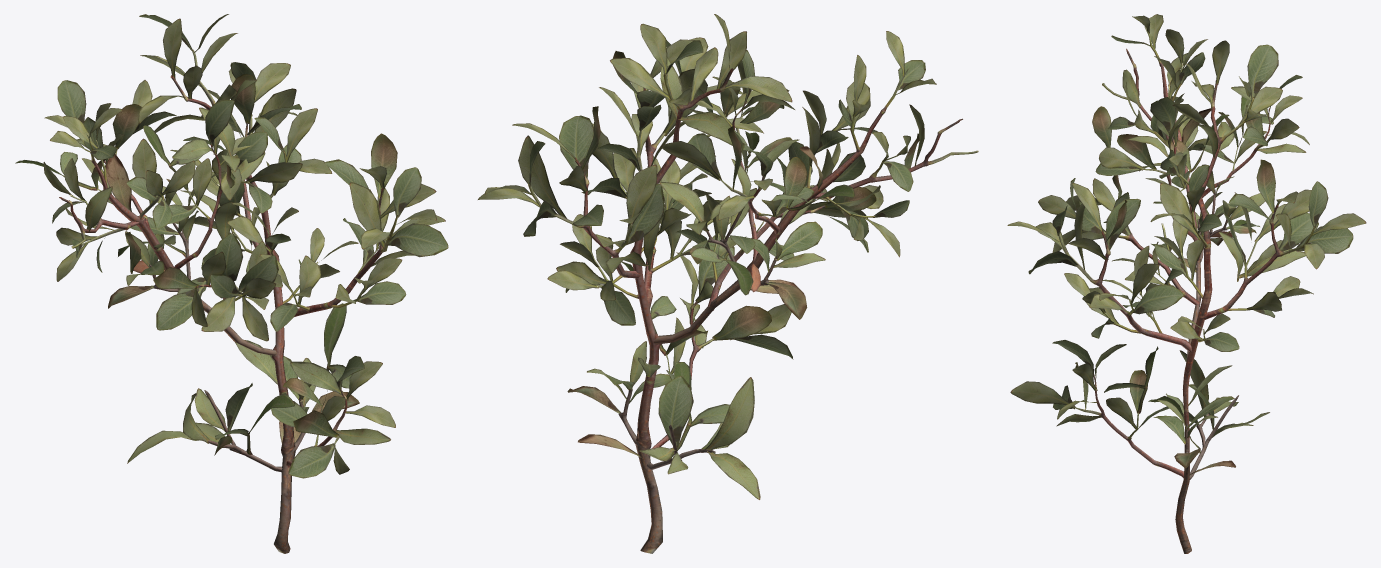
The model's file is natural-branch.gltf.
3 views of the same model, side by side, from view 1: azimuth 30°, elevation 25°; view 2: azimuth 150°, elevation 25°; view 3: azimuth 270°, elevation 25° (orthographic). The views are drawn at different scales.
Parts seen in each view (by area): view 1: PolyHaven_shrub04_branch04; view 2: PolyHaven_shrub04_branch04; view 3: PolyHaven_shrub04_branch04.
Part boxes in pixels (x1,y1,x2,y2): PolyHaven_shrub04_branch04: [15, 14, 448, 553]; PolyHaven_shrub04_branch04: [478, 14, 978, 553]; PolyHaven_shrub04_branch04: [1007, 14, 1366, 553].
Size of the model in its own units: 1.24 by 1.71 by 1.17.
1 material, 1 textured.
